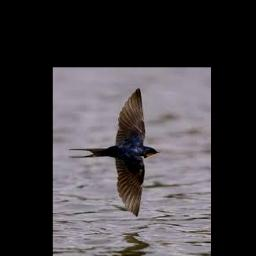Swallow: (67, 88, 159, 217)
